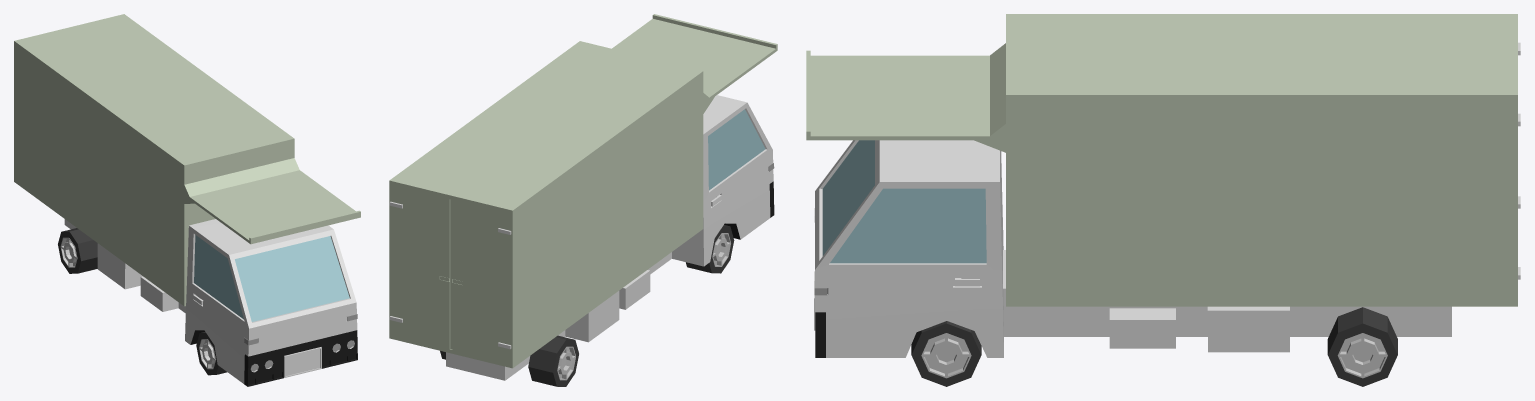
File: Truck.gltf
3 views of the same model, side by side, from view 1: azimuth 30°, elevation 25°; view 2: azimuth 150°, elevation 25°; view 3: azimuth 270°, elevation 25° (orthographic). The views are drawn at different scales.
Parts seen in each view (by area): view 1: Truck_Cube; view 2: Truck_Cube; view 3: Truck_Cube.
Part boxes in pixels (x1,y1,x2,y2): Truck_Cube: (14, 14, 360, 386); Truck_Cube: (389, 14, 777, 386); Truck_Cube: (806, 14, 1520, 386).
Bounding box in the file's own units: 0.5973 × 1.02 × 2.23.
